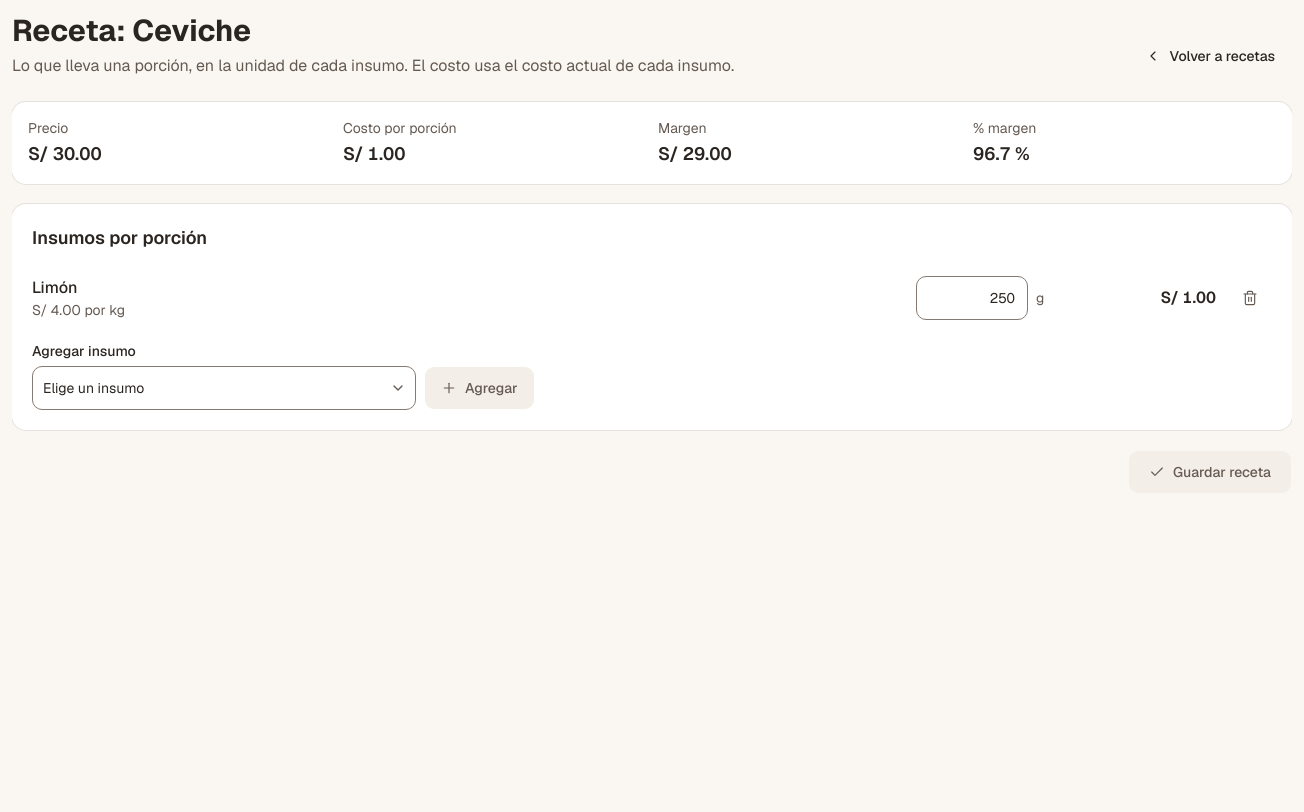
Test: RecipeEditorView › quitar el último insumo avisa que guardar borra la receta
What coordinates should you click on to do the following:
click the button named "Quitar Limón"
I would click on:
 (1250, 298)
Its box is [1228,276,1272,320].
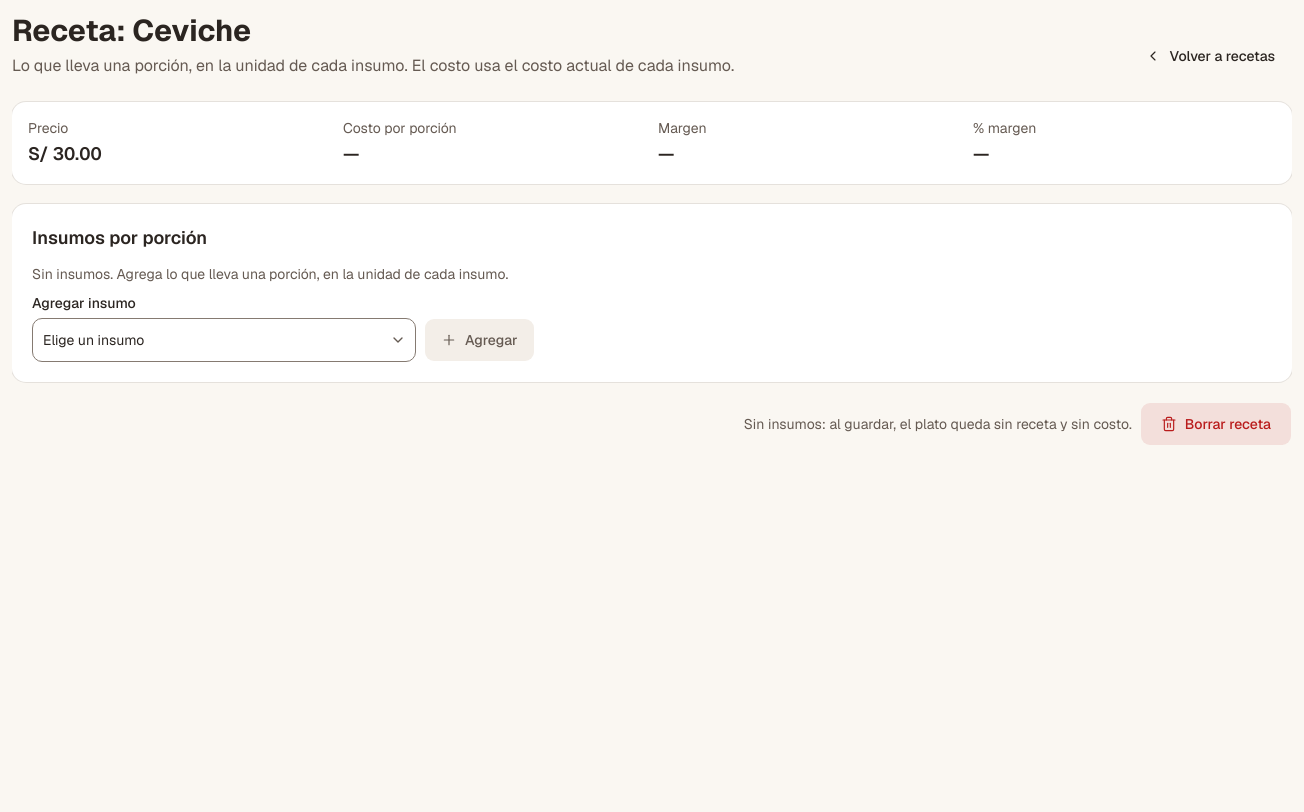
Expected: the text "Sin insumos: al guardar, el plato queda sin receta y sin costo." is shown, [744,414,1132,434]
What coordinates should you click on to do the following:
click the button "Borrar receta"
I would click on:
 (1216, 424)
Its box is [1140,402,1292,446].
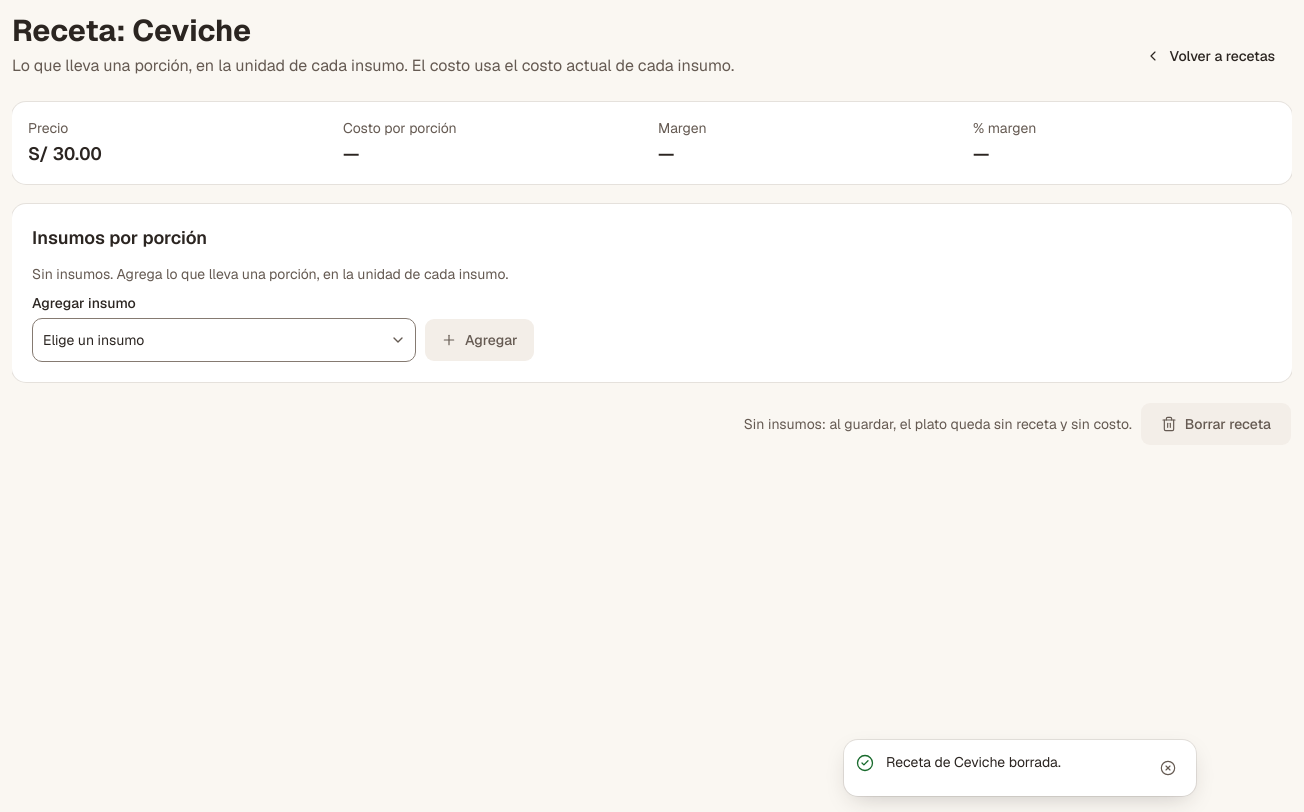
Expected: the text "Receta de Ceviche borrada." is shown, [886,753,1061,771]
